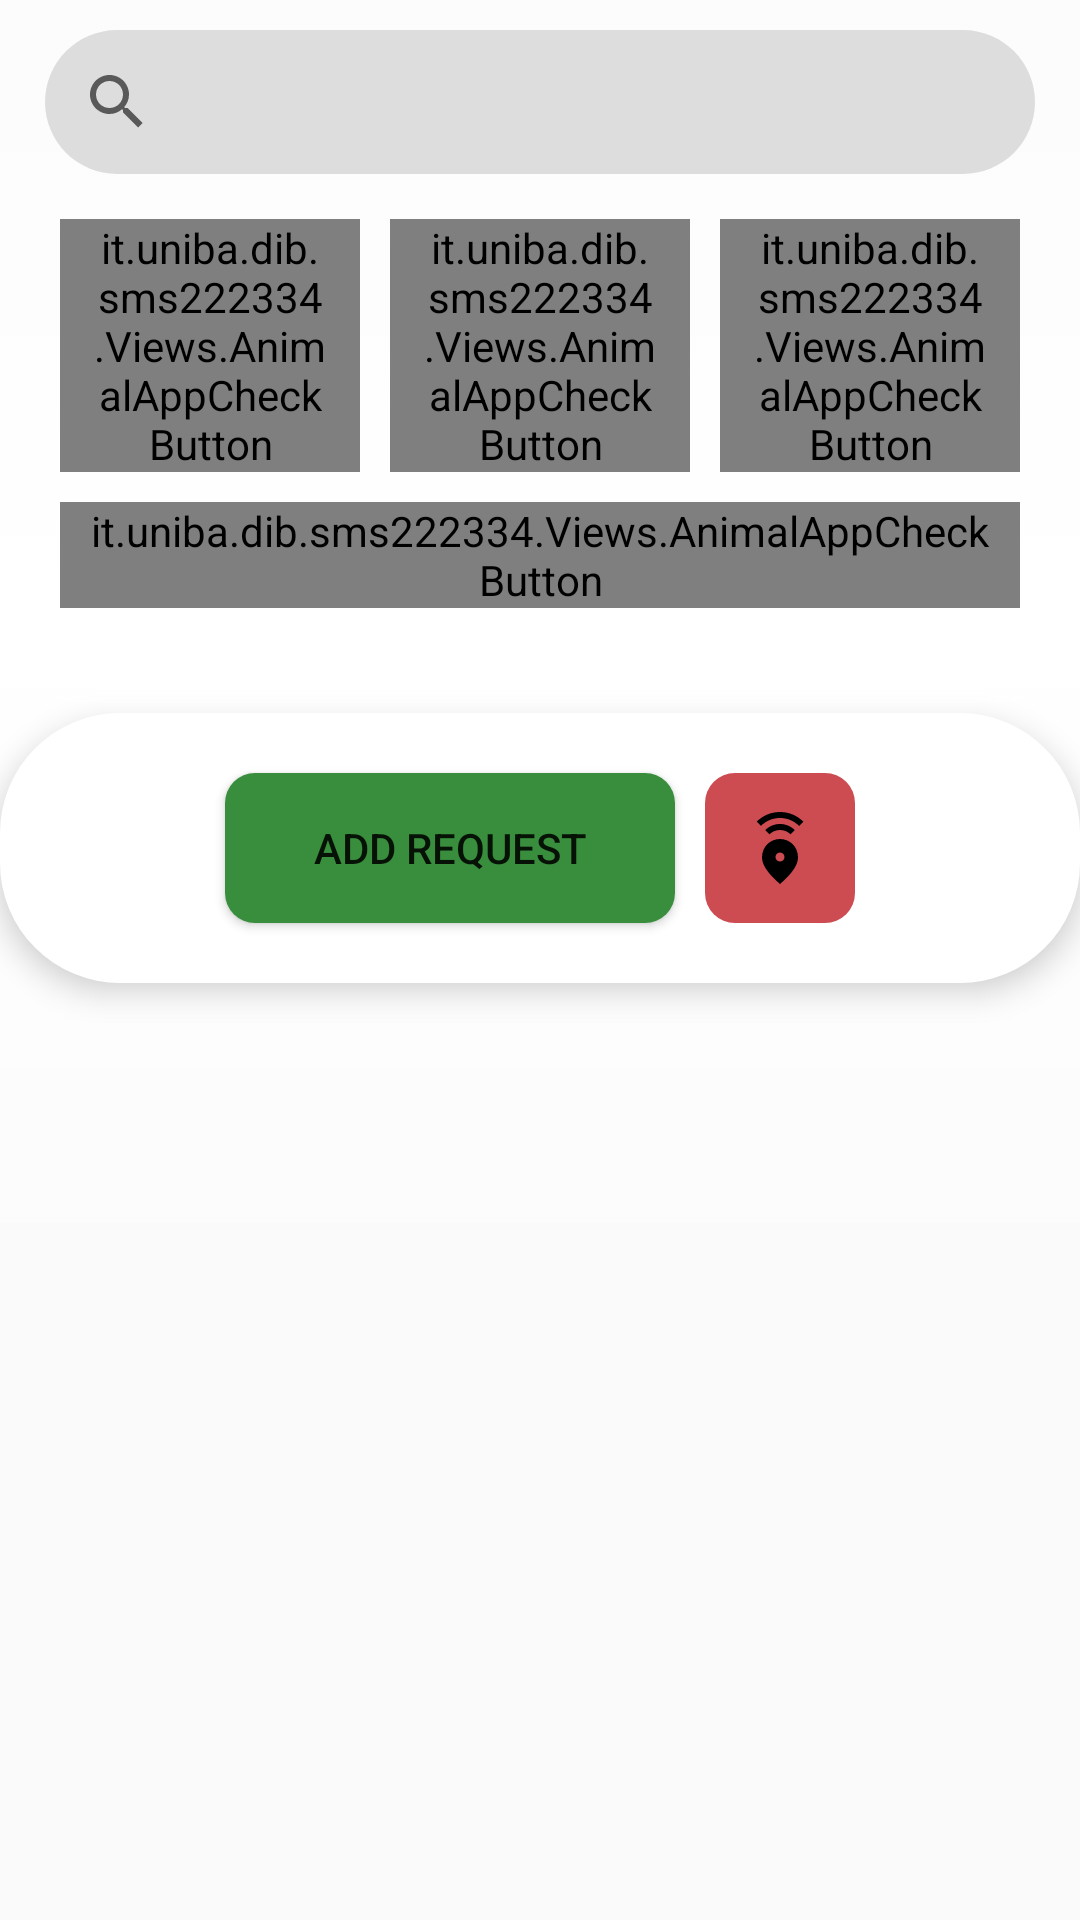

Where to tap for icons on this 1080*1920 app screen, as [x,y]:
emergency share: [780,848]
